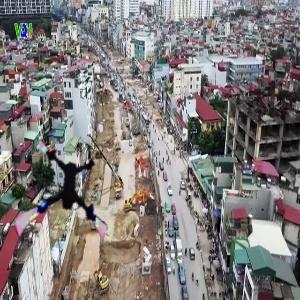drone: (17, 147, 123, 253)
